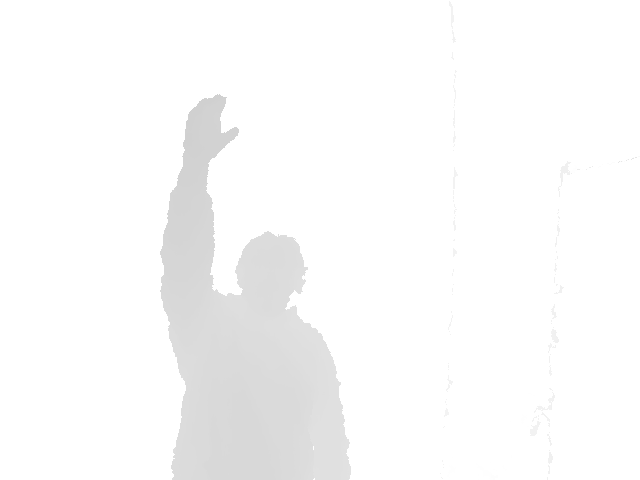hand: (182, 93, 241, 161)
head: (234, 231, 309, 317)
person: (159, 93, 353, 480)
